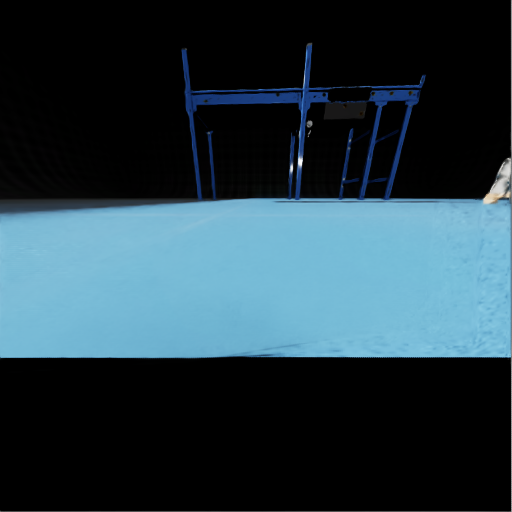transportation_area: (503, 180, 511, 196)
